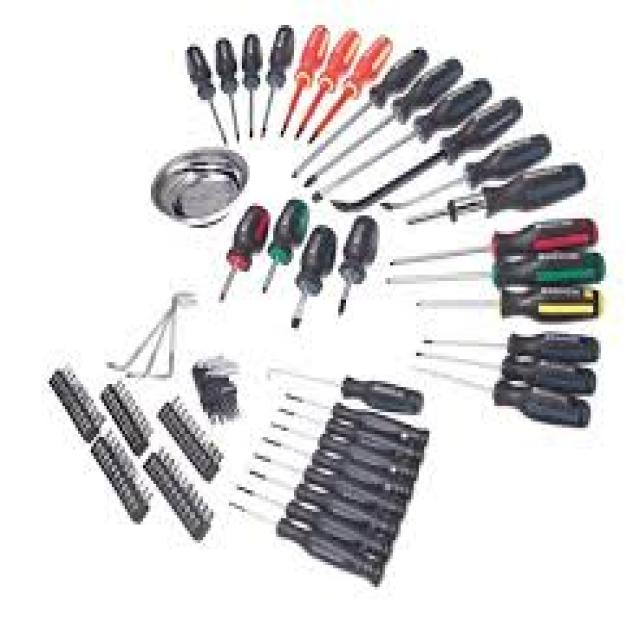screw driver: (255, 351, 433, 432), (175, 24, 243, 172)
